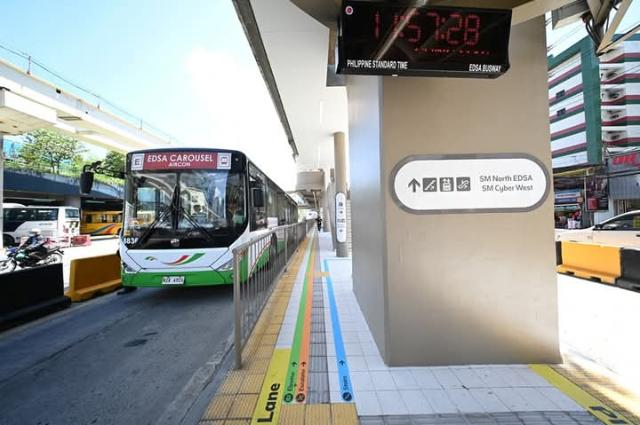bus: (122, 150, 285, 292), (2, 204, 79, 249), (79, 204, 124, 238)
